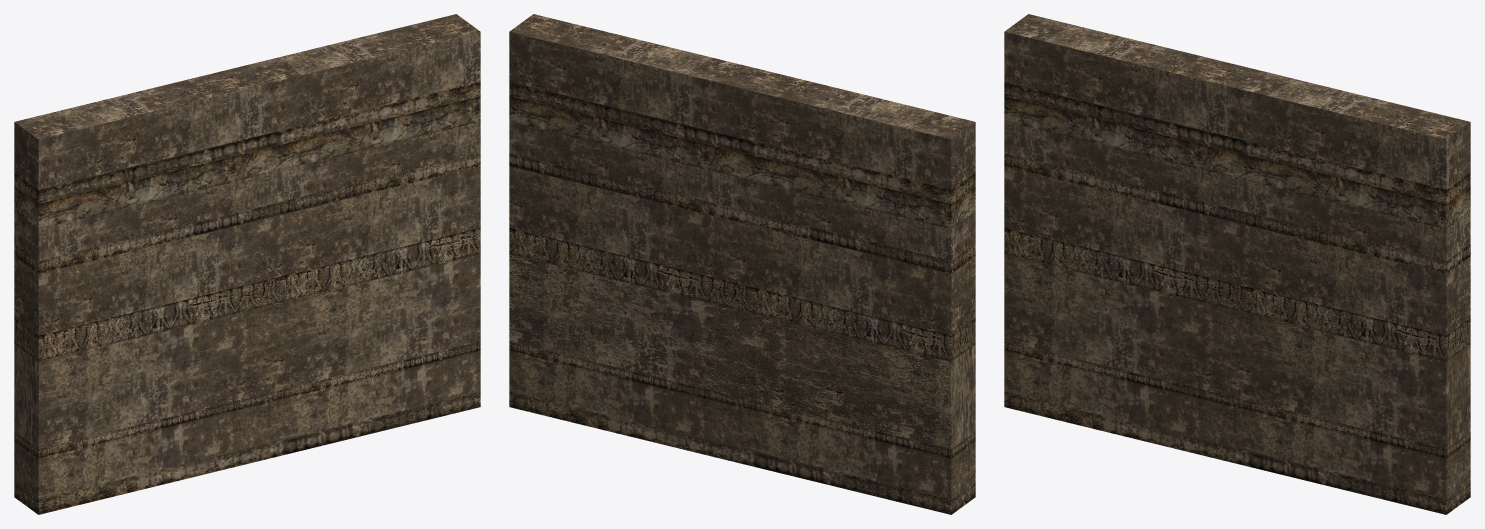
The model's file is materials_5_wall_rectangle_8.fbx.
The picture shows the model from 3 angles, left to right: view 1: azimuth 30°, elevation 25°; view 2: azimuth 150°, elevation 25°; view 3: azimuth 330°, elevation 25°; orthographic projection.
Visible parts, largest first — view 1: materials_5_wall_rectangle_8; view 2: materials_5_wall_rectangle_8; view 3: materials_5_wall_rectangle_8.
Part boxes in pixels (<box>): materials_5_wall_rectangle_8: <box>14,14,480,514</box>; materials_5_wall_rectangle_8: <box>509,14,975,514</box>; materials_5_wall_rectangle_8: <box>1004,14,1470,514</box>.
Size of the model in its own units: 567 by 460 by 53.65.
